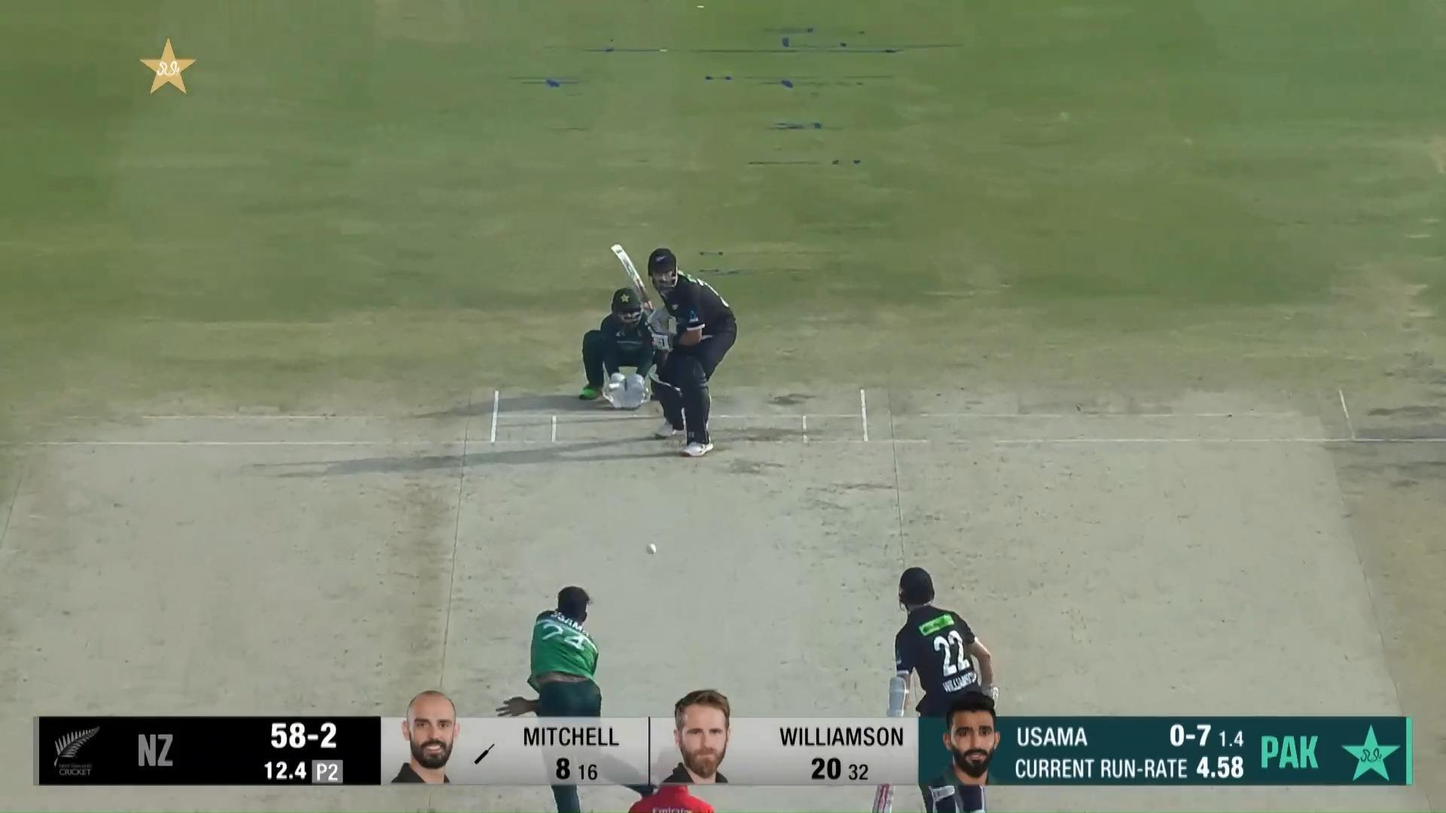BM 1: (610, 241, 740, 460)
BO: (496, 585, 657, 813)
